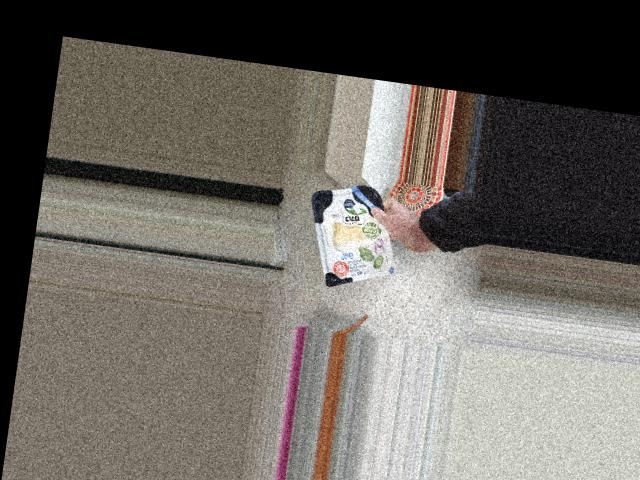cheese: (298, 177, 404, 295)
